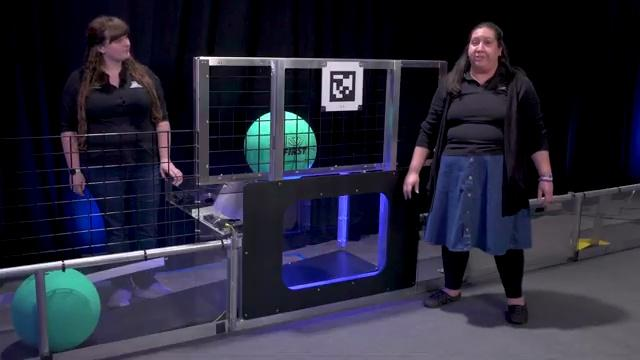ALGAE: (10, 267, 101, 352), (243, 110, 317, 173)
